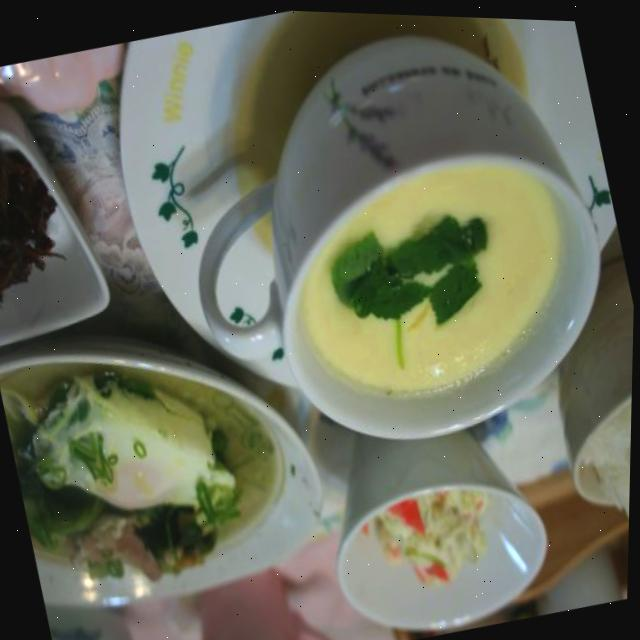鸡蛋料理: (150, 5, 640, 482)
